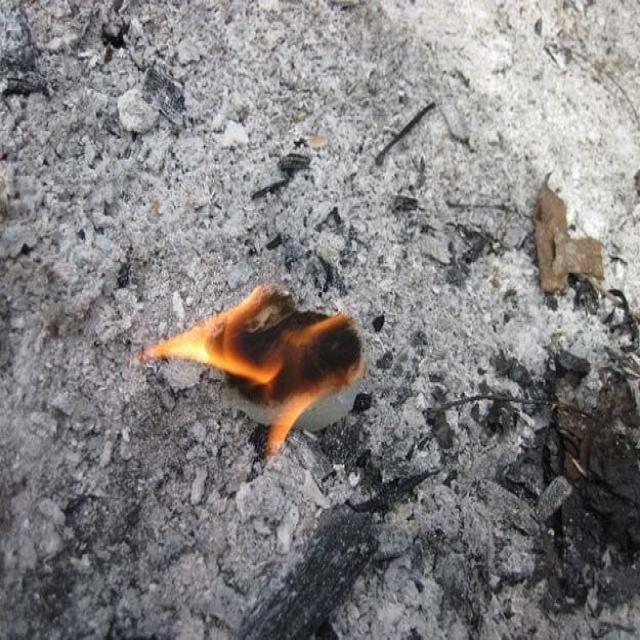fire: (141, 283, 362, 459)
